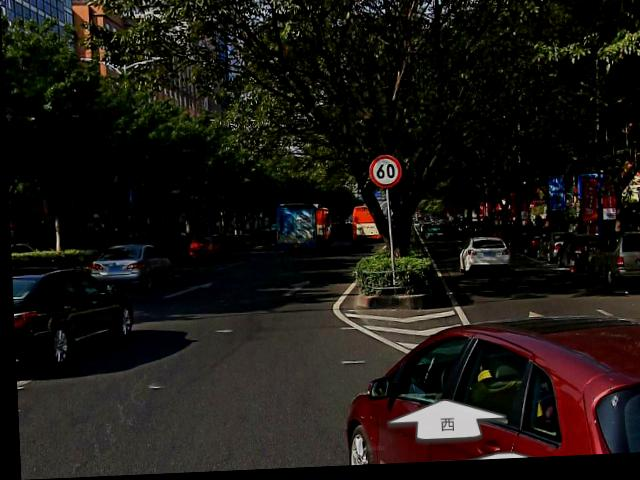limit60: (367, 158, 400, 192)
